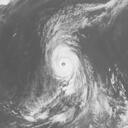cyclone: (45, 40, 86, 88)
